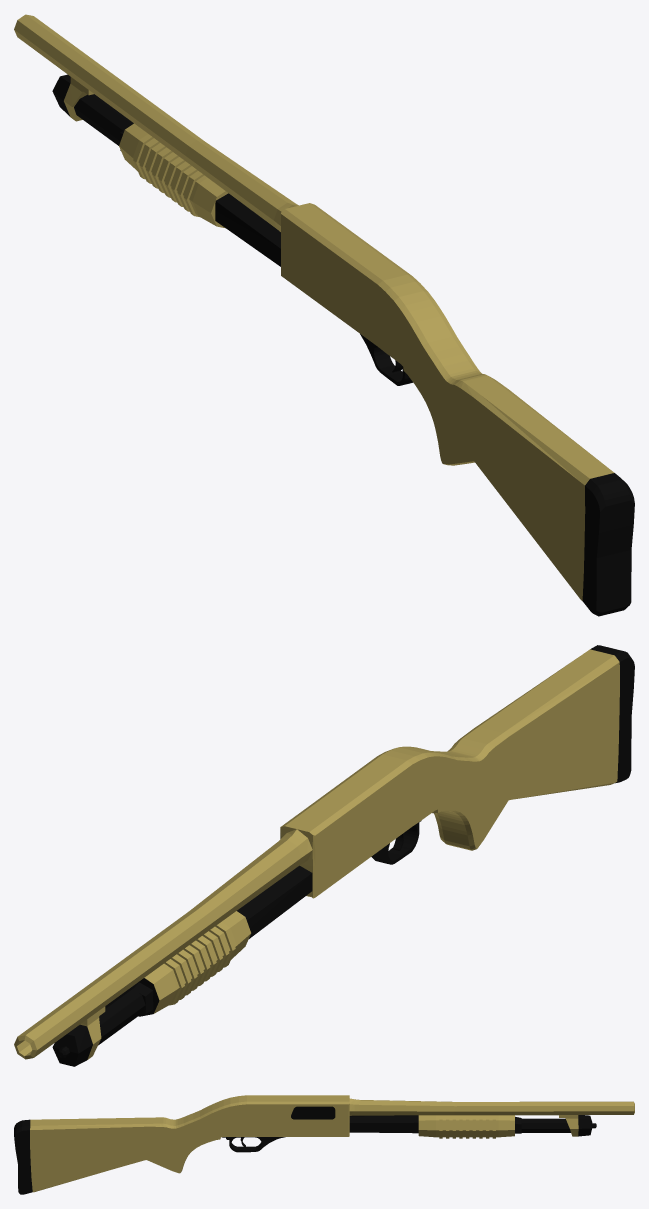
Rendered from w_nova.glb.
The picture shows the model from 3 angles, top to bottom: view 1: azimuth 30°, elevation 25°; view 2: azimuth 150°, elevation 25°; view 3: azimuth 270°, elevation 25°; orthographic projection. The views are drawn at different scales.
Parts seen in each view (by area): view 1: gun; view 2: gun; view 3: gun.
Part boxes in pixels (<box>): gun: <box>14,14,634,616</box>; gun: <box>14,645,634,1066</box>; gun: <box>14,1095,634,1194</box>.
Size of the model in its own units: 0.1235 by 0.4316 by 2.61.
